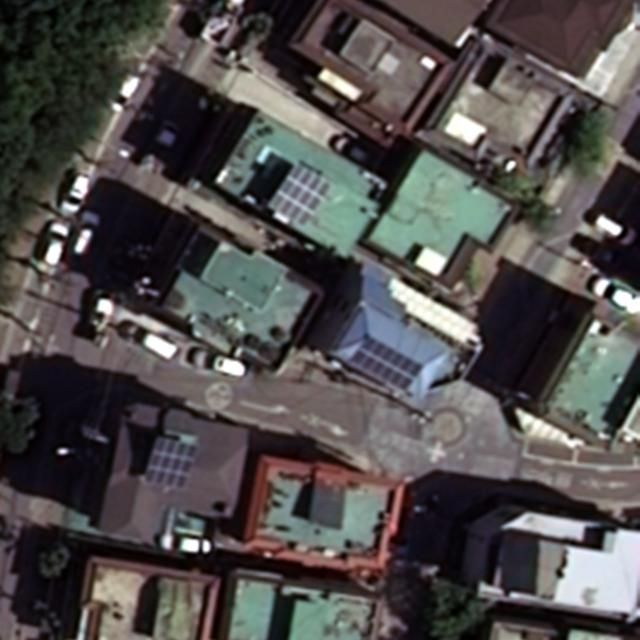panel: (265, 158, 330, 228), (348, 337, 423, 394), (141, 436, 201, 491)
